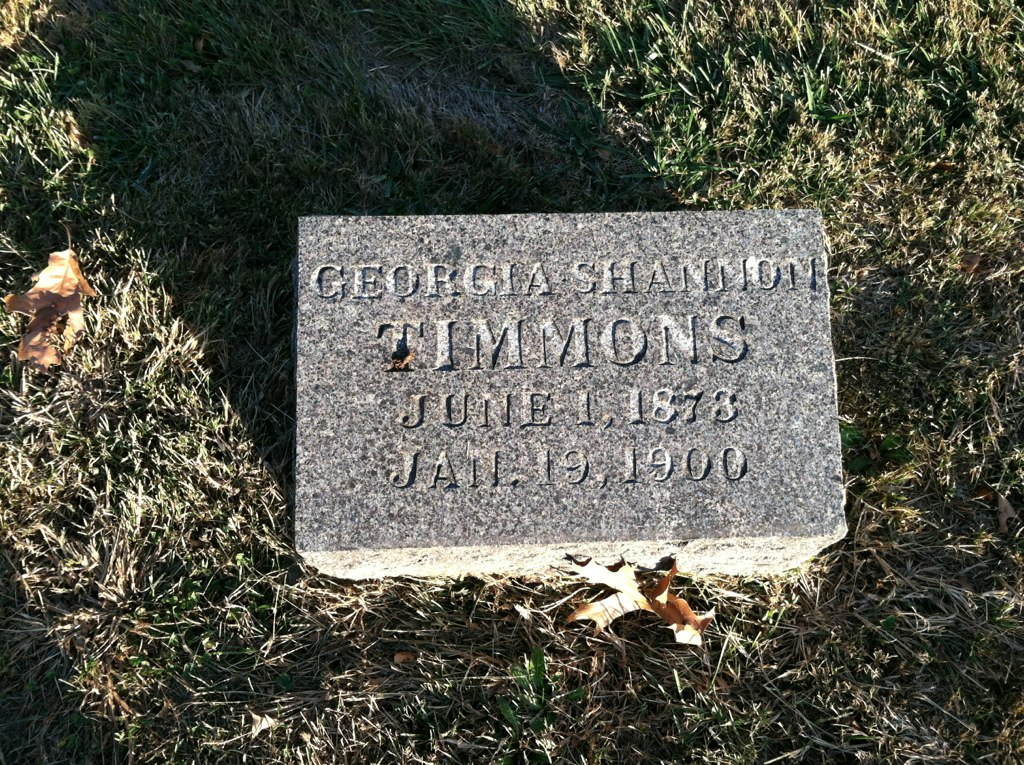flat: (286, 205, 853, 575)
